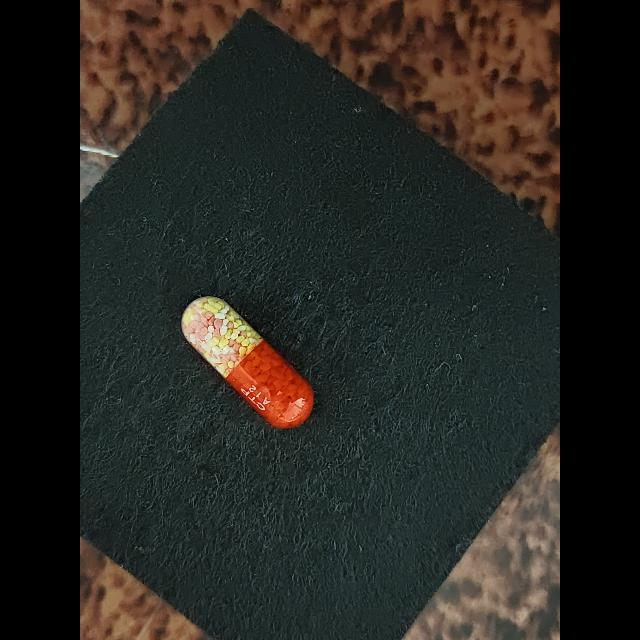Intact Capsule: (181, 296, 314, 428)
